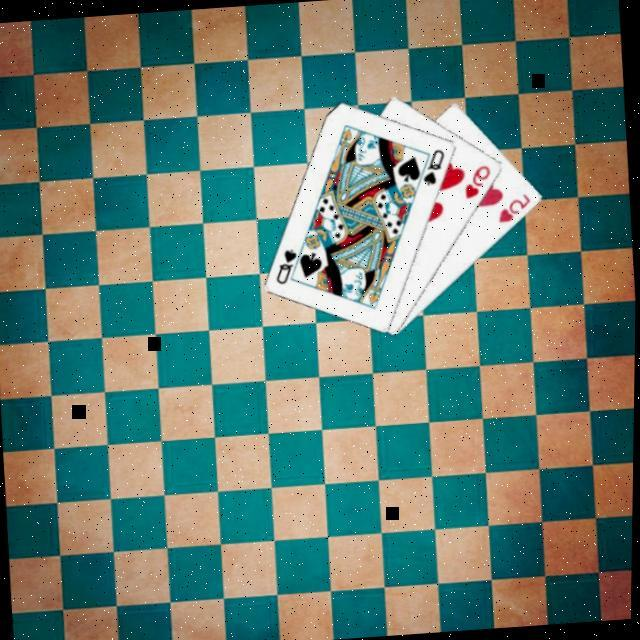5H: (495, 188, 535, 224)
9H: (461, 160, 496, 200)
QS: (419, 144, 451, 187), (272, 244, 303, 286)
